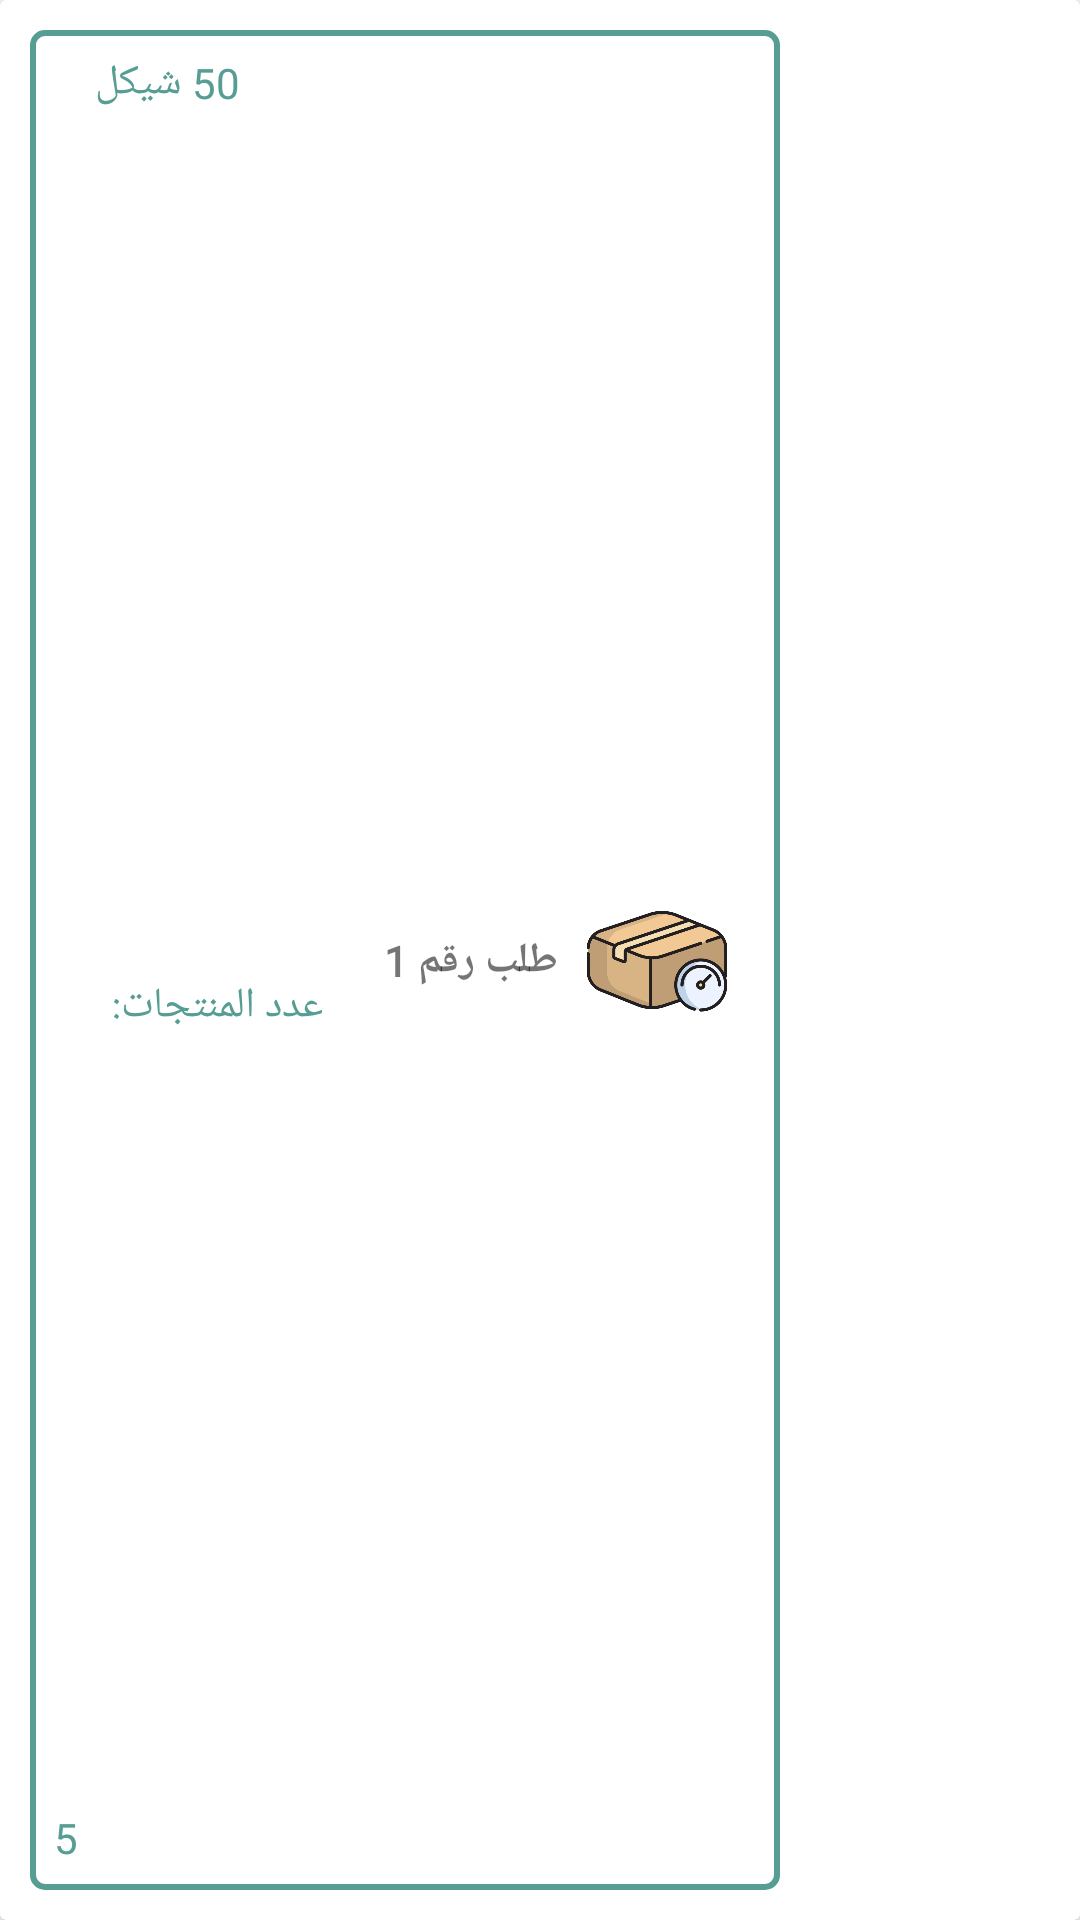

Named icons in this screenshot (1080px×1920px) and their centers, (x,y):
parcelweight: (657,961)
